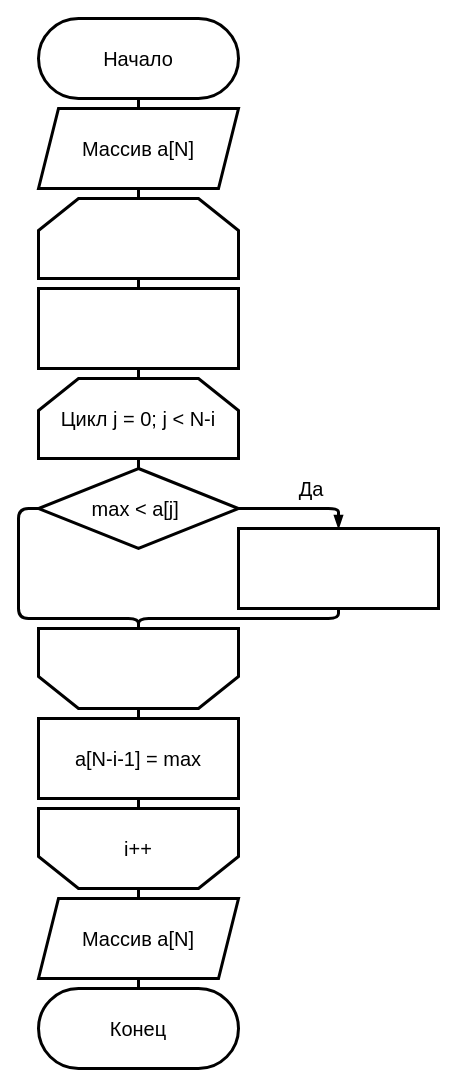
Some shapes in this 457 by 1087 pixel diagram are drawn without their labels. The shapes that lost their labels are listed below. From the top down, each one's centre as x and y in pixels, then its label:
At [138,238]: "Цикл i = 0; i < N-1".
At [138,328]: "max = a[0]".
At [338,568]: "max = a[j]".
At [138,668]: "j++".
